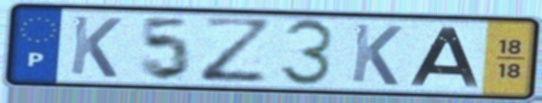3: (275, 16, 337, 89)
5: (135, 15, 194, 82)
A: (406, 25, 484, 90)
K: (348, 21, 406, 88), (67, 13, 125, 80)
Z: (197, 14, 278, 85)
